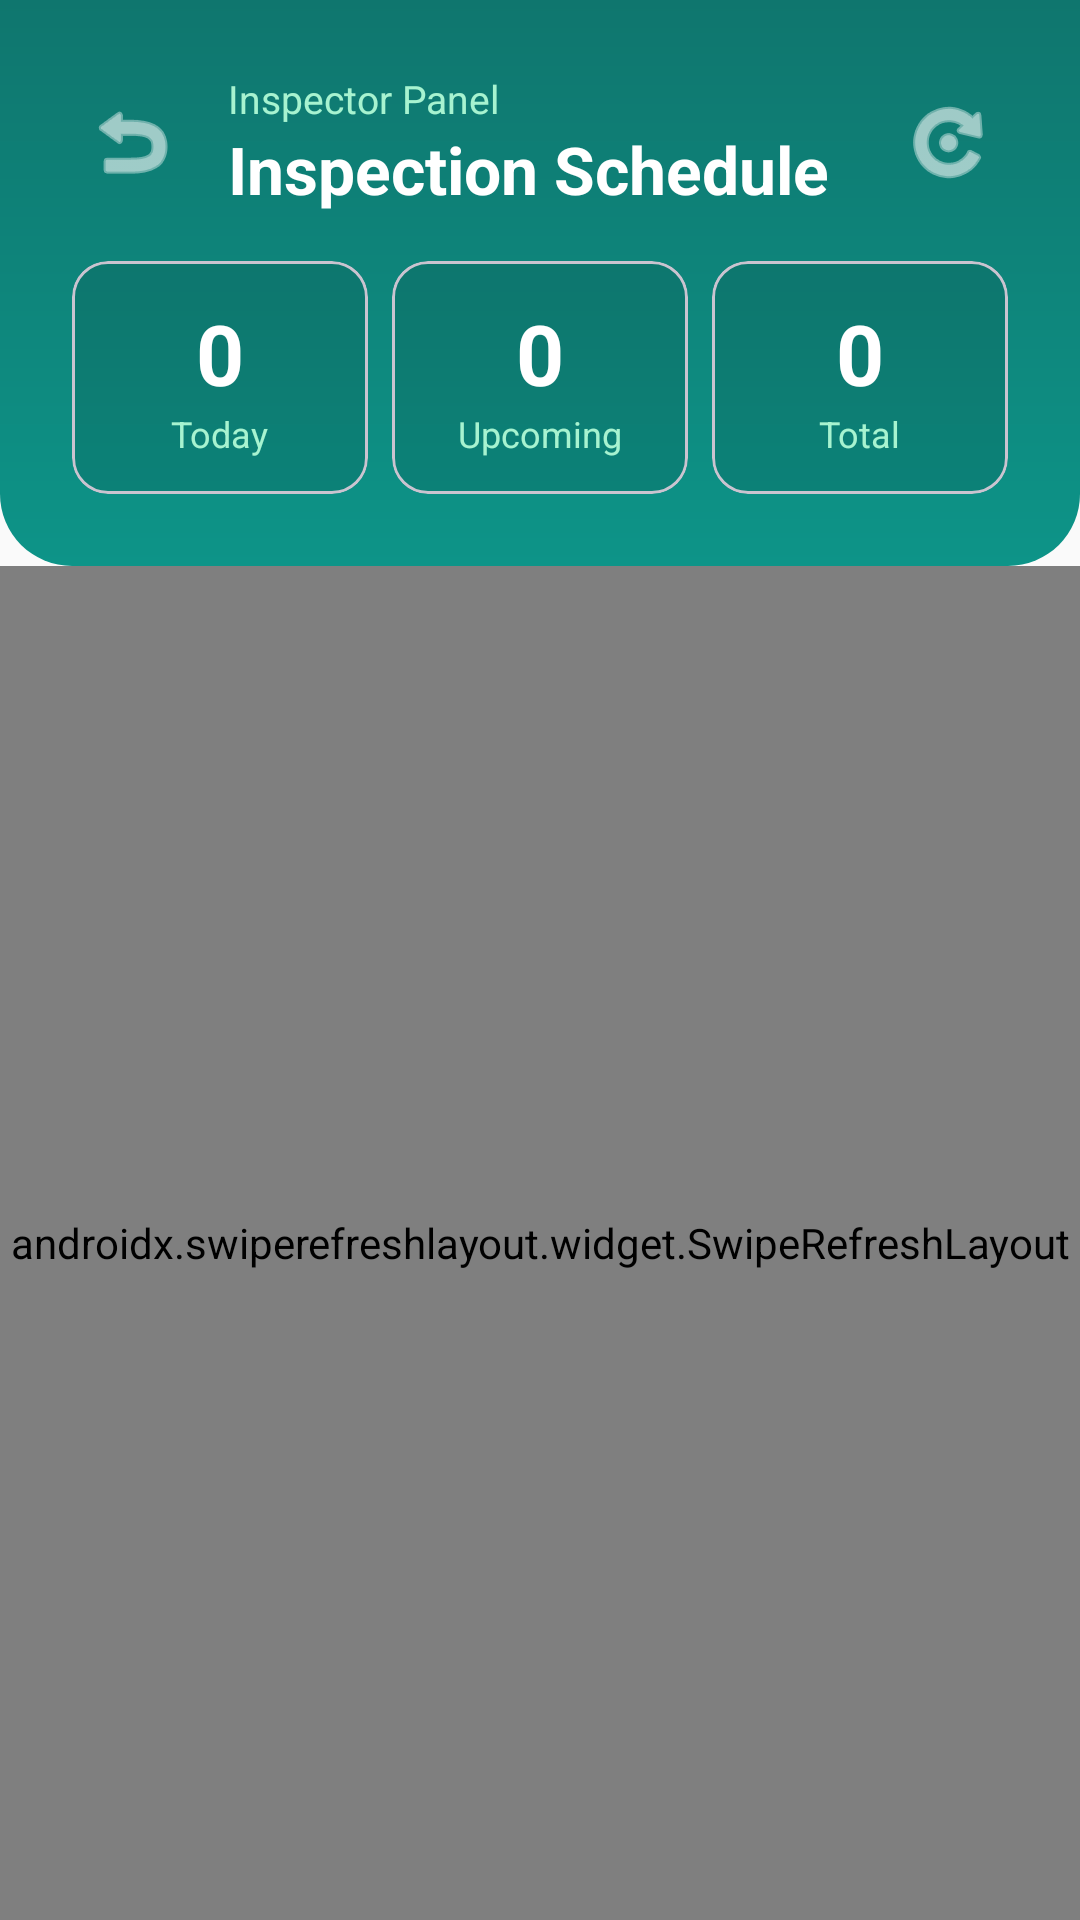

Icons on this 1080w x 1920h Android screen, each with the point to tap as (x,y):
Back: (133,142)
Refresh: (948,142)
